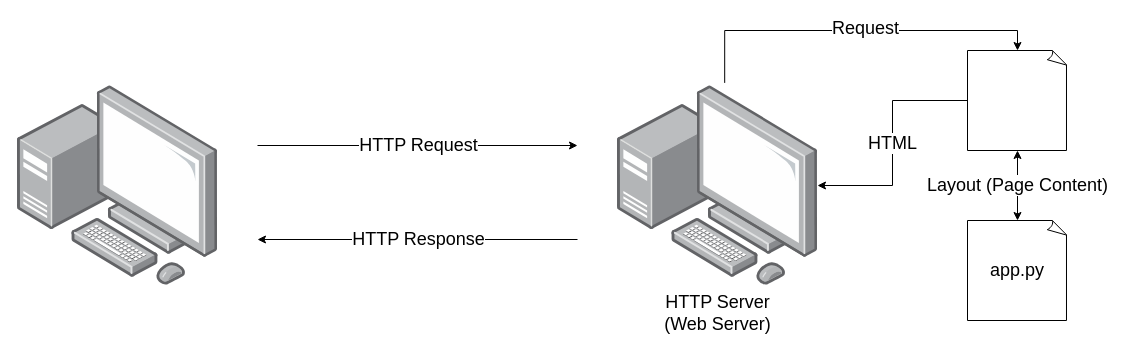
This 1125x353 diagram has some shape labels left out. Each missing label, with the centre of its shape:
Dash: (x=1017, y=100)
HTTP Client (Web Browser): (x=117, y=185)
